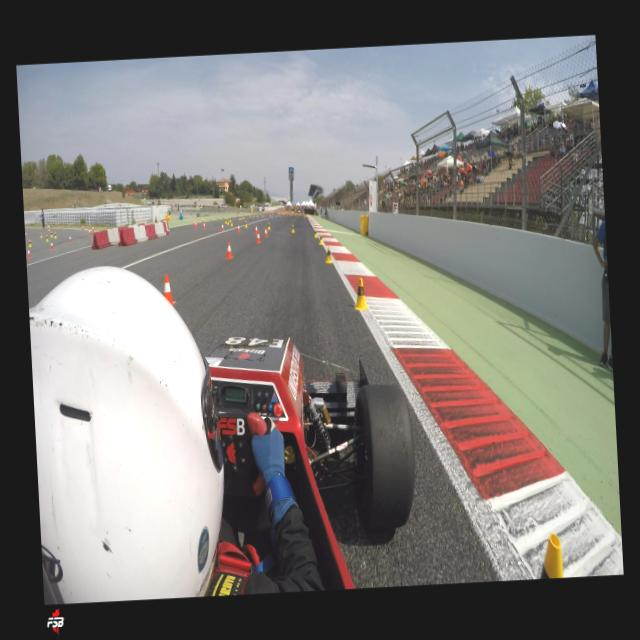orange_cone: (162, 274, 175, 306), (225, 242, 233, 260), (255, 232, 261, 244), (26, 248, 31, 258), (264, 228, 268, 238), (254, 226, 258, 234), (68, 235, 72, 243), (50, 241, 53, 250), (221, 223, 224, 231), (202, 222, 205, 230), (237, 225, 240, 232), (88, 229, 91, 236), (193, 221, 196, 226), (195, 221, 197, 228), (25, 232, 27, 238), (82, 225, 84, 231), (92, 226, 94, 232), (202, 218, 204, 222), (49, 228, 50, 234), (250, 218, 252, 221), (195, 220, 197, 222), (210, 218, 212, 220), (218, 218, 218, 220)
yellow_cone: (537, 533, 562, 579), (352, 278, 368, 310), (324, 246, 332, 264), (318, 233, 324, 246), (290, 224, 294, 233), (28, 239, 31, 248), (314, 230, 317, 238), (245, 220, 248, 228), (230, 220, 233, 227), (46, 235, 49, 242), (50, 231, 53, 238), (224, 218, 227, 224), (268, 222, 270, 230), (168, 212, 170, 220), (165, 212, 167, 220), (227, 219, 229, 225), (228, 217, 230, 223), (40, 232, 42, 238), (54, 232, 56, 238), (240, 216, 242, 220), (242, 215, 244, 219), (238, 216, 240, 220), (249, 215, 251, 218), (254, 215, 256, 218)
